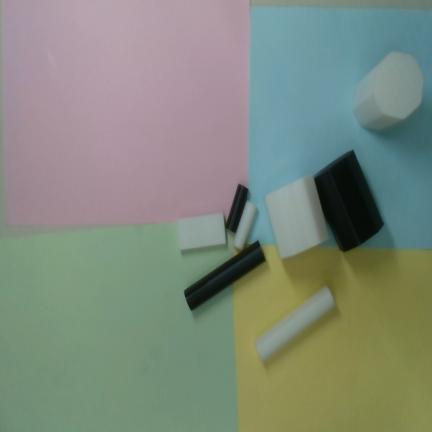Cilindro: (254, 286, 335, 360), (184, 239, 266, 311), (225, 183, 249, 234), (233, 201, 257, 250)
Paralelepipedo: (177, 212, 226, 251)
Prisma_hexagonal: (314, 149, 384, 252), (352, 50, 425, 130), (263, 174, 330, 260)
